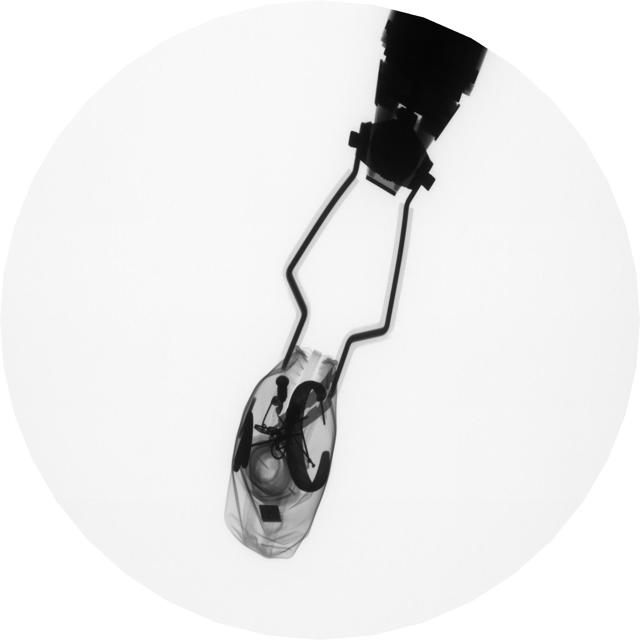razor: (302, 375, 335, 428)
